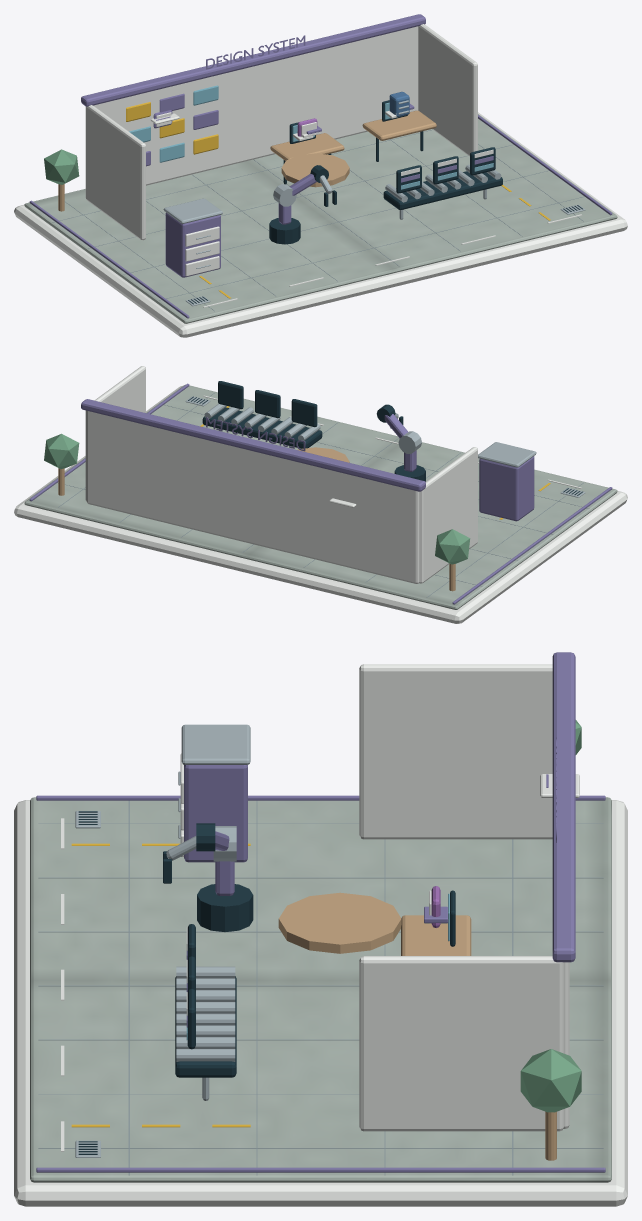
File: charte.glb
3 views of the same model, one above another, from view 1: azimuth 30°, elevation 25°; view 2: azimuth 150°, elevation 25°; view 3: azimuth 270°, elevation 25° (orthographic). The views are drawn at different scales.
Visible parts, largest first — view 1: Activity ground, StaticWorkshop_0, StaticWorkshop_1, StaticWorkshop_2, StaticWorkshop_3, StaticWorkshop_5, StaticWorkshop_8, StaticWorkshop_7, Interface assembly mounting; view 2: StaticWorkshop_0, Activity ground, StaticWorkshop_1, StaticWorkshop_3, StaticWorkshop_7, StaticWorkshop_8, StaticWorkshop_5, StaticWorkshop_2, Interface assembly joint; view 3: Activity ground, StaticWorkshop_0, StaticWorkshop_1, StaticWorkshop_2, StaticWorkshop_5, StaticWorkshop_8, StaticWorkshop_7, StaticWorkshop_3, Interface assembly mounting, LiveRoller_Interface output.007.
Part boxes in pixels (box(x1,y1,x2,y2)): Activity ground: box(24, 114, 617, 323); StaticWorkshop_0: box(14, 24, 627, 337); StaticWorkshop_1: box(29, 14, 612, 318); StaticWorkshop_2: box(58, 110, 436, 211); StaticWorkshop_3: box(188, 100, 582, 304); StaticWorkshop_5: box(52, 117, 589, 311); StaticWorkshop_8: box(163, 189, 585, 306); StaticWorkshop_7: box(44, 149, 79, 184); Interface assembly mounting: box(269, 218, 300, 244); StaticWorkshop_0: box(14, 366, 627, 623); Activity ground: box(24, 384, 617, 609); StaticWorkshop_1: box(29, 383, 612, 604); StaticWorkshop_3: box(188, 381, 582, 495); StaticWorkshop_7: box(44, 433, 470, 564); StaticWorkshop_8: box(185, 396, 585, 497); StaticWorkshop_5: box(57, 393, 589, 597); StaticWorkshop_2: box(58, 447, 455, 591); Interface assembly joint: box(398, 431, 421, 453); Activity ground: box(30, 797, 611, 1182); StaticWorkshop_0: box(14, 664, 627, 1206); StaticWorkshop_1: box(36, 652, 605, 1172); StaticWorkshop_2: box(278, 892, 556, 1160); StaticWorkshop_5: box(38, 800, 603, 1175); StaticWorkshop_8: box(75, 724, 250, 1157); StaticWorkshop_7: box(520, 720, 581, 1112); StaticWorkshop_3: box(78, 811, 455, 1154); Interface assembly mounting: box(197, 884, 253, 932); LiveRoller_Interface output.007: box(176, 1049, 235, 1061).
Bounding box in the file's own units: 7.3 × 2.01 × 4.8.
15 materials, 1 textured.
